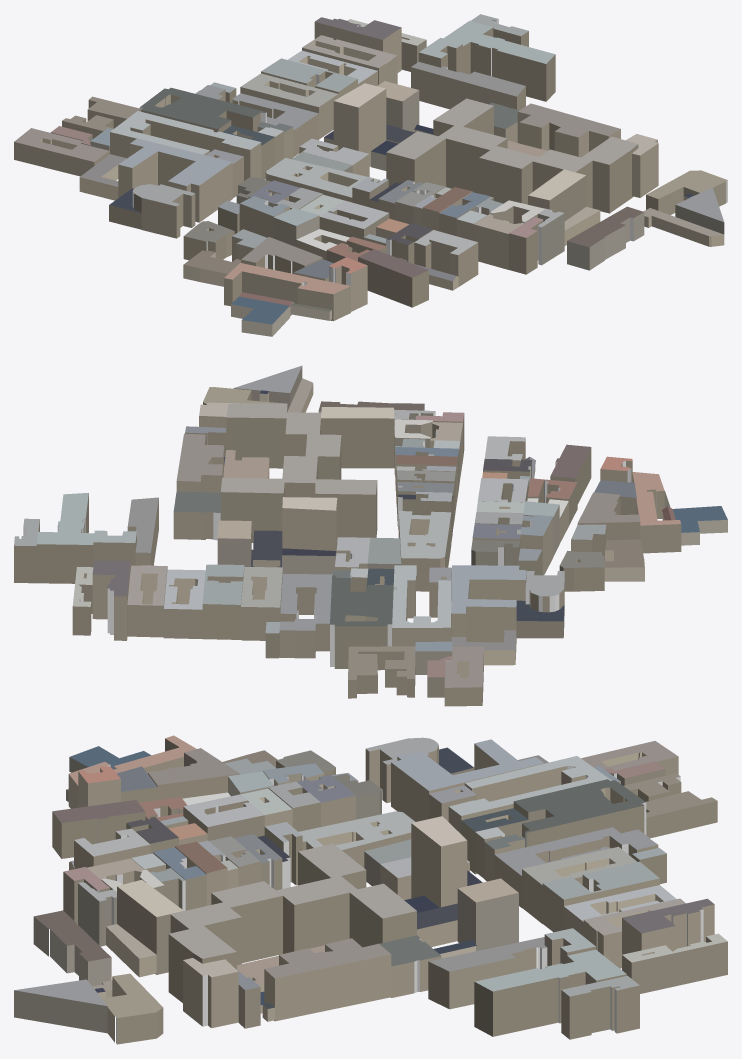
3 views of the same model, one above another, from view 1: azimuth 30°, elevation 25°; view 2: azimuth 150°, elevation 25°; view 3: azimuth 270°, elevation 25° (orthographic). The views are drawn at different scales.
Parts seen in each view (by area): view 1: tuile; view 2: tuile; view 3: tuile.
Boxes of the visible parts, <box> form: tuile: <box>14,14,727,336</box>; tuile: <box>14,365,727,706</box>; tuile: <box>14,735,727,1044</box>.
Size of the model in its own units: 279 by 38.08 by 292.
